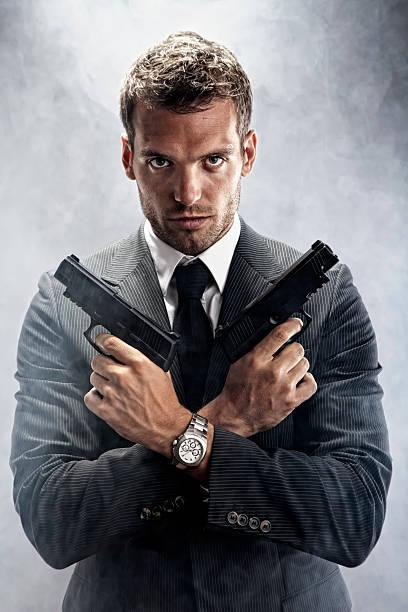weapon: (53, 252, 180, 429), (210, 237, 345, 388)
